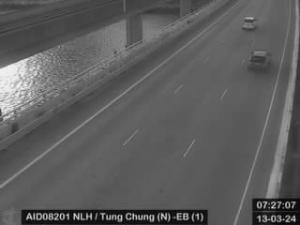vehicle: (247, 51, 271, 72), (241, 16, 256, 31)
